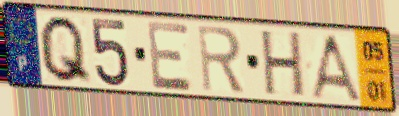5: (88, 15, 131, 88)
A: (307, 32, 364, 104)
E: (144, 19, 196, 94)
H: (260, 29, 307, 101)
Q: (37, 13, 95, 87)
R: (195, 23, 247, 96)
